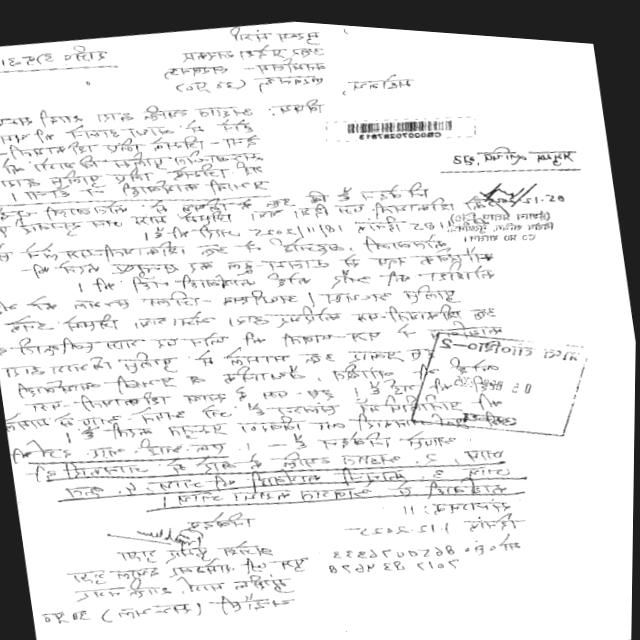antritgovtstamp: (380, 301, 624, 467)
barcode: (331, 100, 482, 158)
